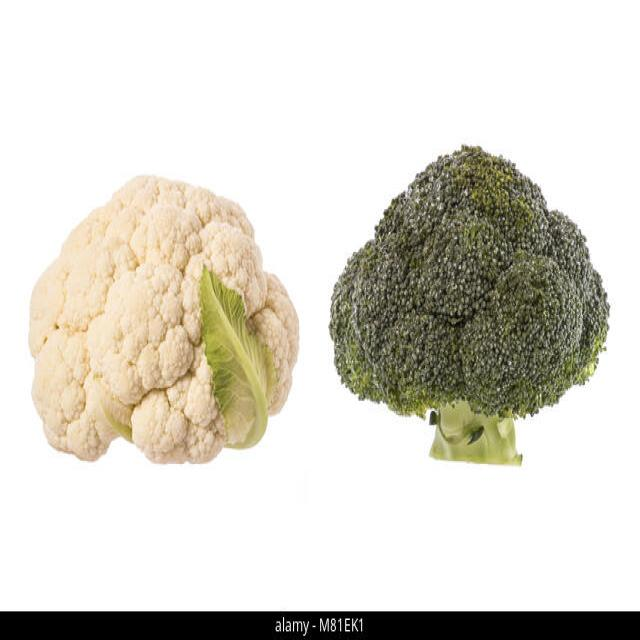broccoli: (327, 145, 614, 476)
